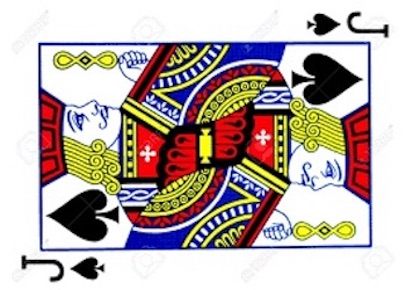JackOfSpades: (1, 1, 406, 289)
